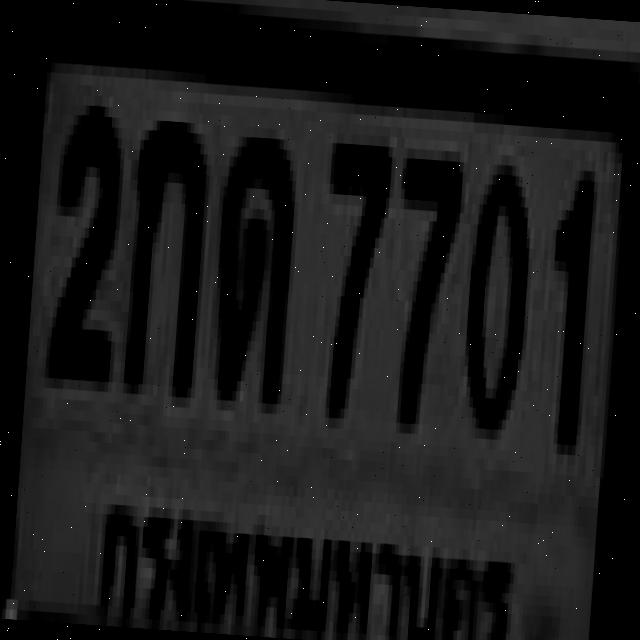0: (457, 153, 532, 420)
1: (538, 163, 592, 440)
10GorGai: (119, 109, 206, 388)
2: (45, 94, 124, 372)
29DorDek: (206, 125, 296, 393)
7: (310, 132, 390, 410), (384, 147, 460, 426)
Bangkok: (87, 483, 527, 640)
